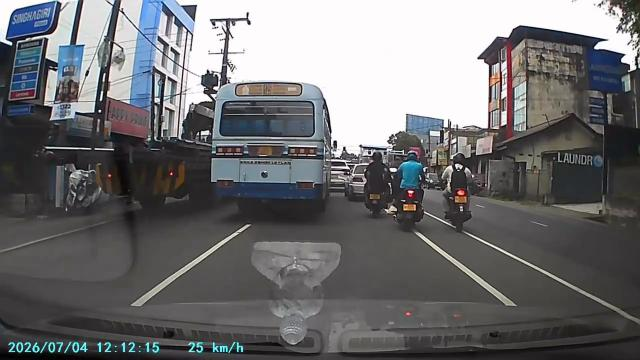illegal overtaking: (434, 155, 477, 235)
